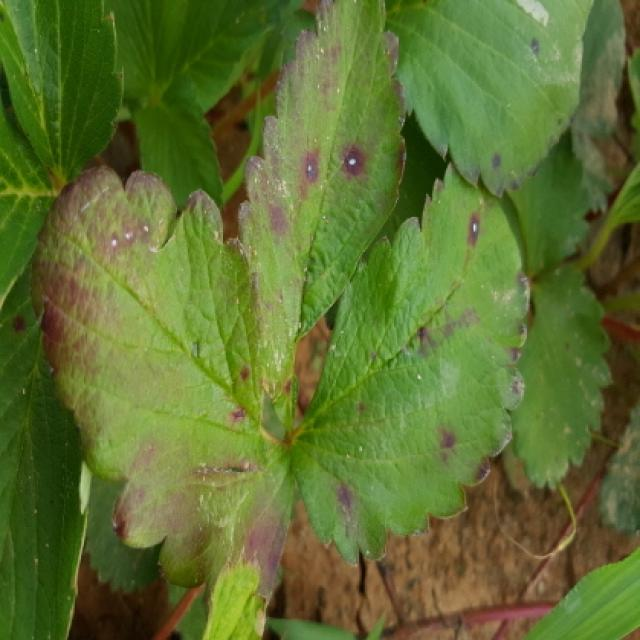Leaf Spot: (33, 165, 302, 617), (286, 160, 531, 569), (238, 0, 409, 433), (383, 0, 594, 201), (2, 254, 92, 638)
